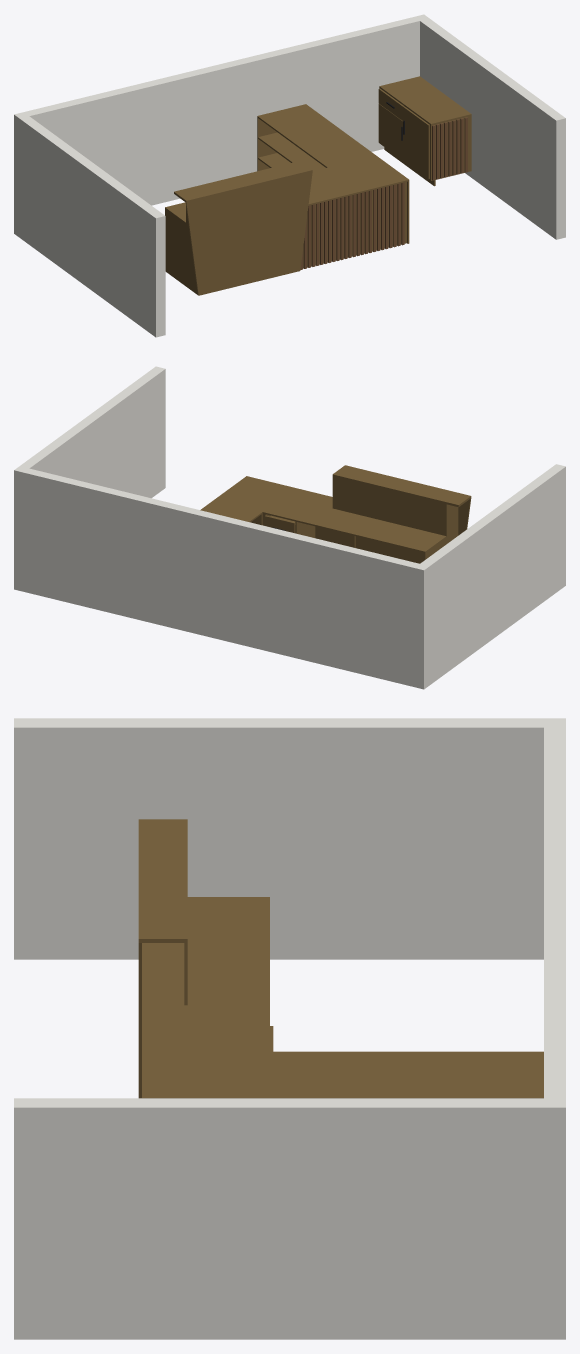
Rendered from reception-desk-brentwood.glb.
3 views of the same model, one above another, from view 1: azimuth 30°, elevation 25°; view 2: azimuth 150°, elevation 25°; view 3: azimuth 270°, elevation 25° (orthographic). The views are drawn at different scales.
Parts seen in each view (by area): view 1: Room: Back wall, Room: Window wall, Room: Side wall, Counter front, angled, Top, L-shaped, Slats along the front, Side unit: Top, Panel behind the slats, Side unit: Slats on the room end, Counter ledge, End panel, left, Side unit: Door, right (hinged right) (+5 smaller); view 2: Room: Back wall, Room: Window wall, Room: Side wall, Top, L-shaped, Upstand, staff side, Counter ledge, Counter front, angled, End panel, left, Panel behind the slats; view 3: Room: Side wall, Room: Window wall, Top, L-shaped, Room: Back wall, Counter ledge.
Boxes of the visible parts, box(x1,y1,x2,y2) form: Room: Back wall: box(14, 14, 429, 237); Room: Window wall: box(19, 116, 165, 337); Room: Side wall: box(420, 18, 565, 239); Counter front, angled: box(185, 172, 312, 295); Top, L-shaped: box(165, 104, 409, 225); Slats along the front: box(300, 182, 404, 269); Side unit: Top: box(379, 76, 471, 125); Panel behind the slats: box(303, 182, 406, 268); Side unit: Slats on the room end: box(432, 117, 467, 180); Counter ledge: box(174, 161, 312, 202); End panel, left: box(165, 206, 197, 294); Side unit: Door, right (hinged right): box(403, 107, 429, 178); Room: Back wall: box(14, 466, 429, 689); Room: Window wall: box(420, 464, 565, 684); Room: Side wall: box(20, 366, 165, 498); Top, L-shaped: box(200, 476, 458, 552); Upstand, staff side: box(332, 476, 444, 535); Counter ledge: box(332, 465, 471, 507); Counter front, angled: box(355, 498, 471, 563); End panel, left: box(424, 504, 458, 560); Panel behind the slats: box(262, 513, 355, 547); Room: Side wall: box(14, 1098, 543, 1339); Room: Window wall: box(14, 718, 543, 959); Top, L-shaped: box(142, 897, 543, 1098); Room: Back wall: box(544, 718, 565, 1339); Counter ledge: box(138, 819, 187, 942).
Size of the model in its own units: 5.04 by 1.4 by 3.02.
